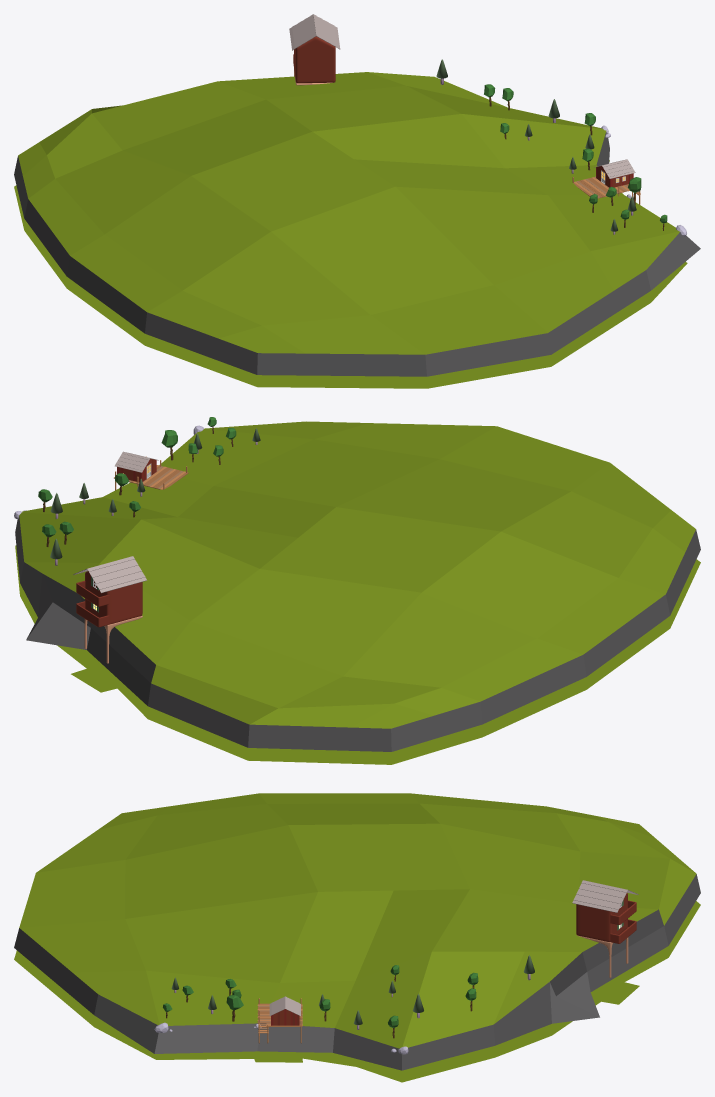
Rendered from island1.glb.
3 views of the same model, one above another, from view 1: azimuth 30°, elevation 25°; view 2: azimuth 150°, elevation 25°; view 3: azimuth 270°, elevation 25° (orthographic). The views are drawn at different scales.
Visible parts, largest first — view 1: island1, island1__hit, alpine house.001, House, Dock; view 2: island1, island1__hit, alpine house.001, House, Dock; view 3: island1, island1__hit, alpine house.001, House, Dock.
Boxes of the visible parts, x1=… form: island1: x1=14, y1=72, x2=700, y2=376; island1__hit: x1=14, y1=160, x2=687, y2=388; alpine house.001: x1=289, y1=14, x2=340, y2=85; House: x1=594, y1=159, x2=635, y2=187; Dock: x1=572, y1=176, x2=640, y2=204; island1: x1=15, y1=421, x2=700, y2=751; island1__hit: x1=15, y1=545, x2=700, y2=764; alpine house.001: x1=73, y1=556, x2=146, y2=663; House: x1=115, y1=451, x2=158, y2=482; Dock: x1=114, y1=456, x2=188, y2=490; island1: x1=14, y1=793, x2=700, y2=1070; island1__hit: x1=14, y1=901, x2=700, y2=1082; alpine house.001: x1=572, y1=880, x2=638, y2=977; House: x1=269, y1=996, x2=300, y2=1025; Dock: x1=257, y1=998, x2=302, y2=1043.
Bounding box in the file's own units: 97.73 × 18.5 × 109.
